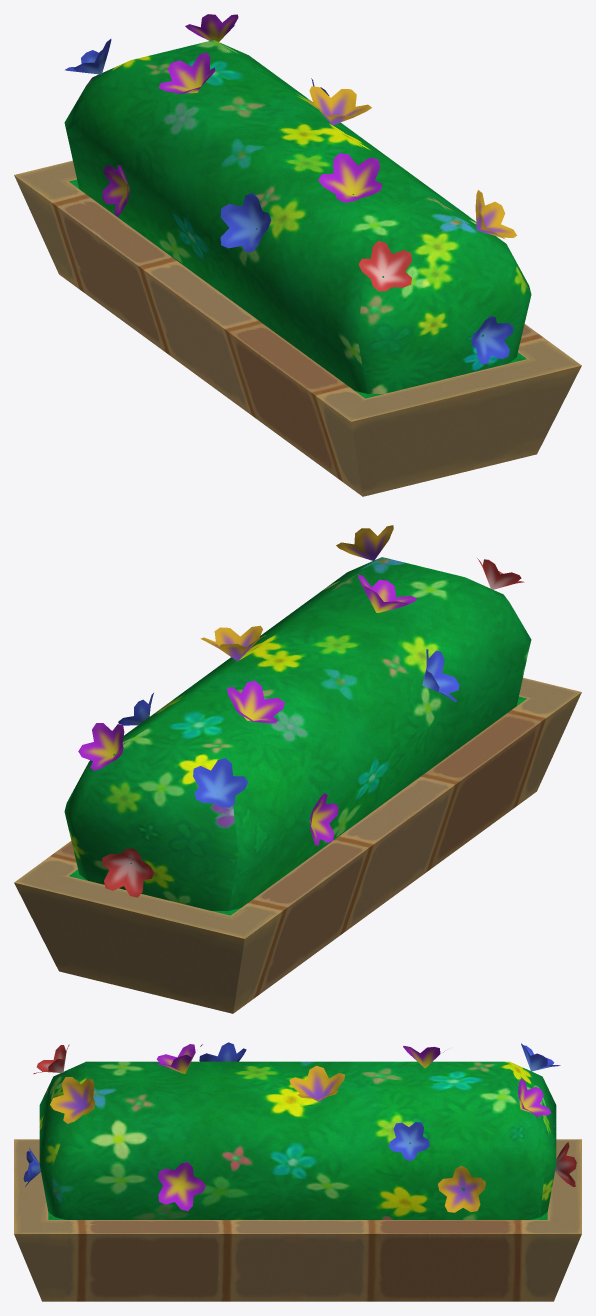
File: Plant04_b02.FBX
3 views of the same model, one above another, from view 1: azimuth 30°, elevation 25°; view 2: azimuth 150°, elevation 25°; view 3: azimuth 270°, elevation 25° (orthographic). The views are drawn at different scales.
Visible parts, largest first — view 1: Plant04_b02; view 2: Plant04_b02; view 3: Plant04_b02.
Boxes of the visible parts, x1,y1,x2,y2 form: Plant04_b02: (14,14,581,496); Plant04_b02: (14,525,581,1013); Plant04_b02: (14,1042,581,1301).
Bounding box in the file's own units: 124 × 128 × 306.
Materials: 3 (3 with a texture image).
